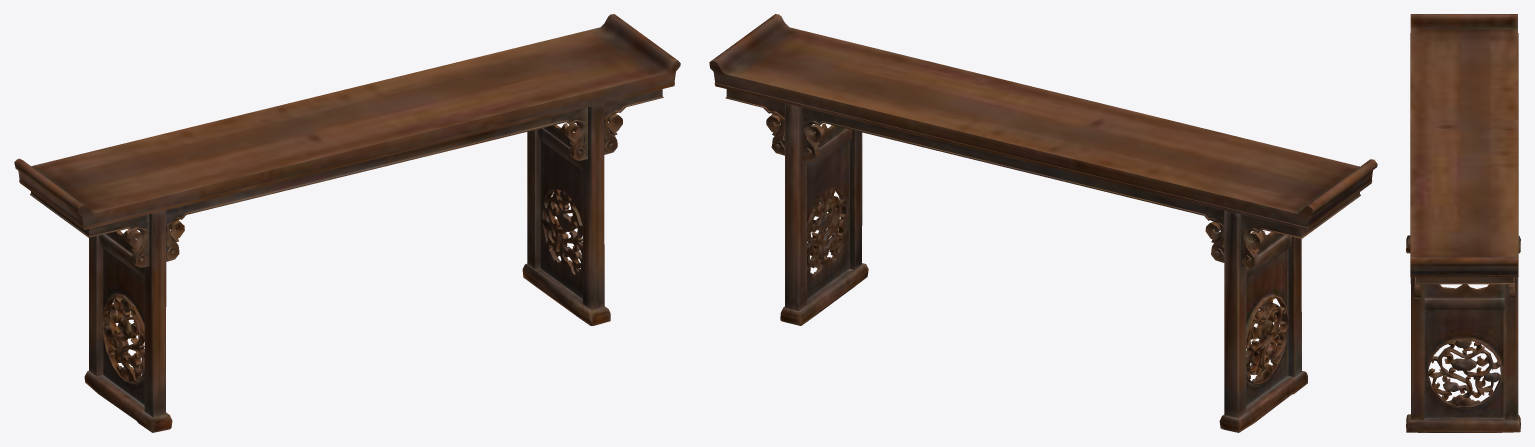
File: console-chinese.lite.dfb90e42.glb
The picture shows the model from 3 angles, left to right: view 1: azimuth 30°, elevation 25°; view 2: azimuth 150°, elevation 25°; view 3: azimuth 270°, elevation 25°; orthographic projection. The views are drawn at different scales.
Visible parts, largest first — view 1: model; view 2: model; view 3: model.
Boxes of the visible parts, x1,y1,x2,y2 form: model: (14,14,680,432); model: (709,14,1377,432); model: (1406,14,1520,432).
Bounding box in the file's own units: 1.72 × 0.6602 × 0.3383.
Materials: 1 (1 with a texture image).
